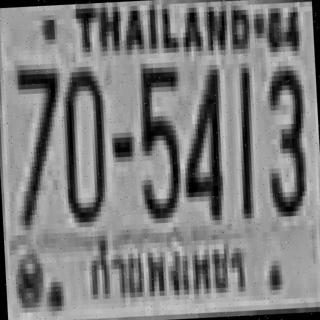N00: (59, 64, 106, 221)
N01: (234, 63, 254, 214)
N03: (261, 66, 306, 212)
N04: (177, 65, 224, 217)
N05: (135, 62, 183, 219)
N07: (12, 61, 62, 223)
P16: (80, 221, 250, 308)
